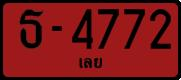letters: (17, 8, 45, 51), (70, 7, 94, 51), (96, 7, 120, 50), (122, 8, 146, 50), (148, 8, 172, 50)
province: (77, 56, 104, 70)
